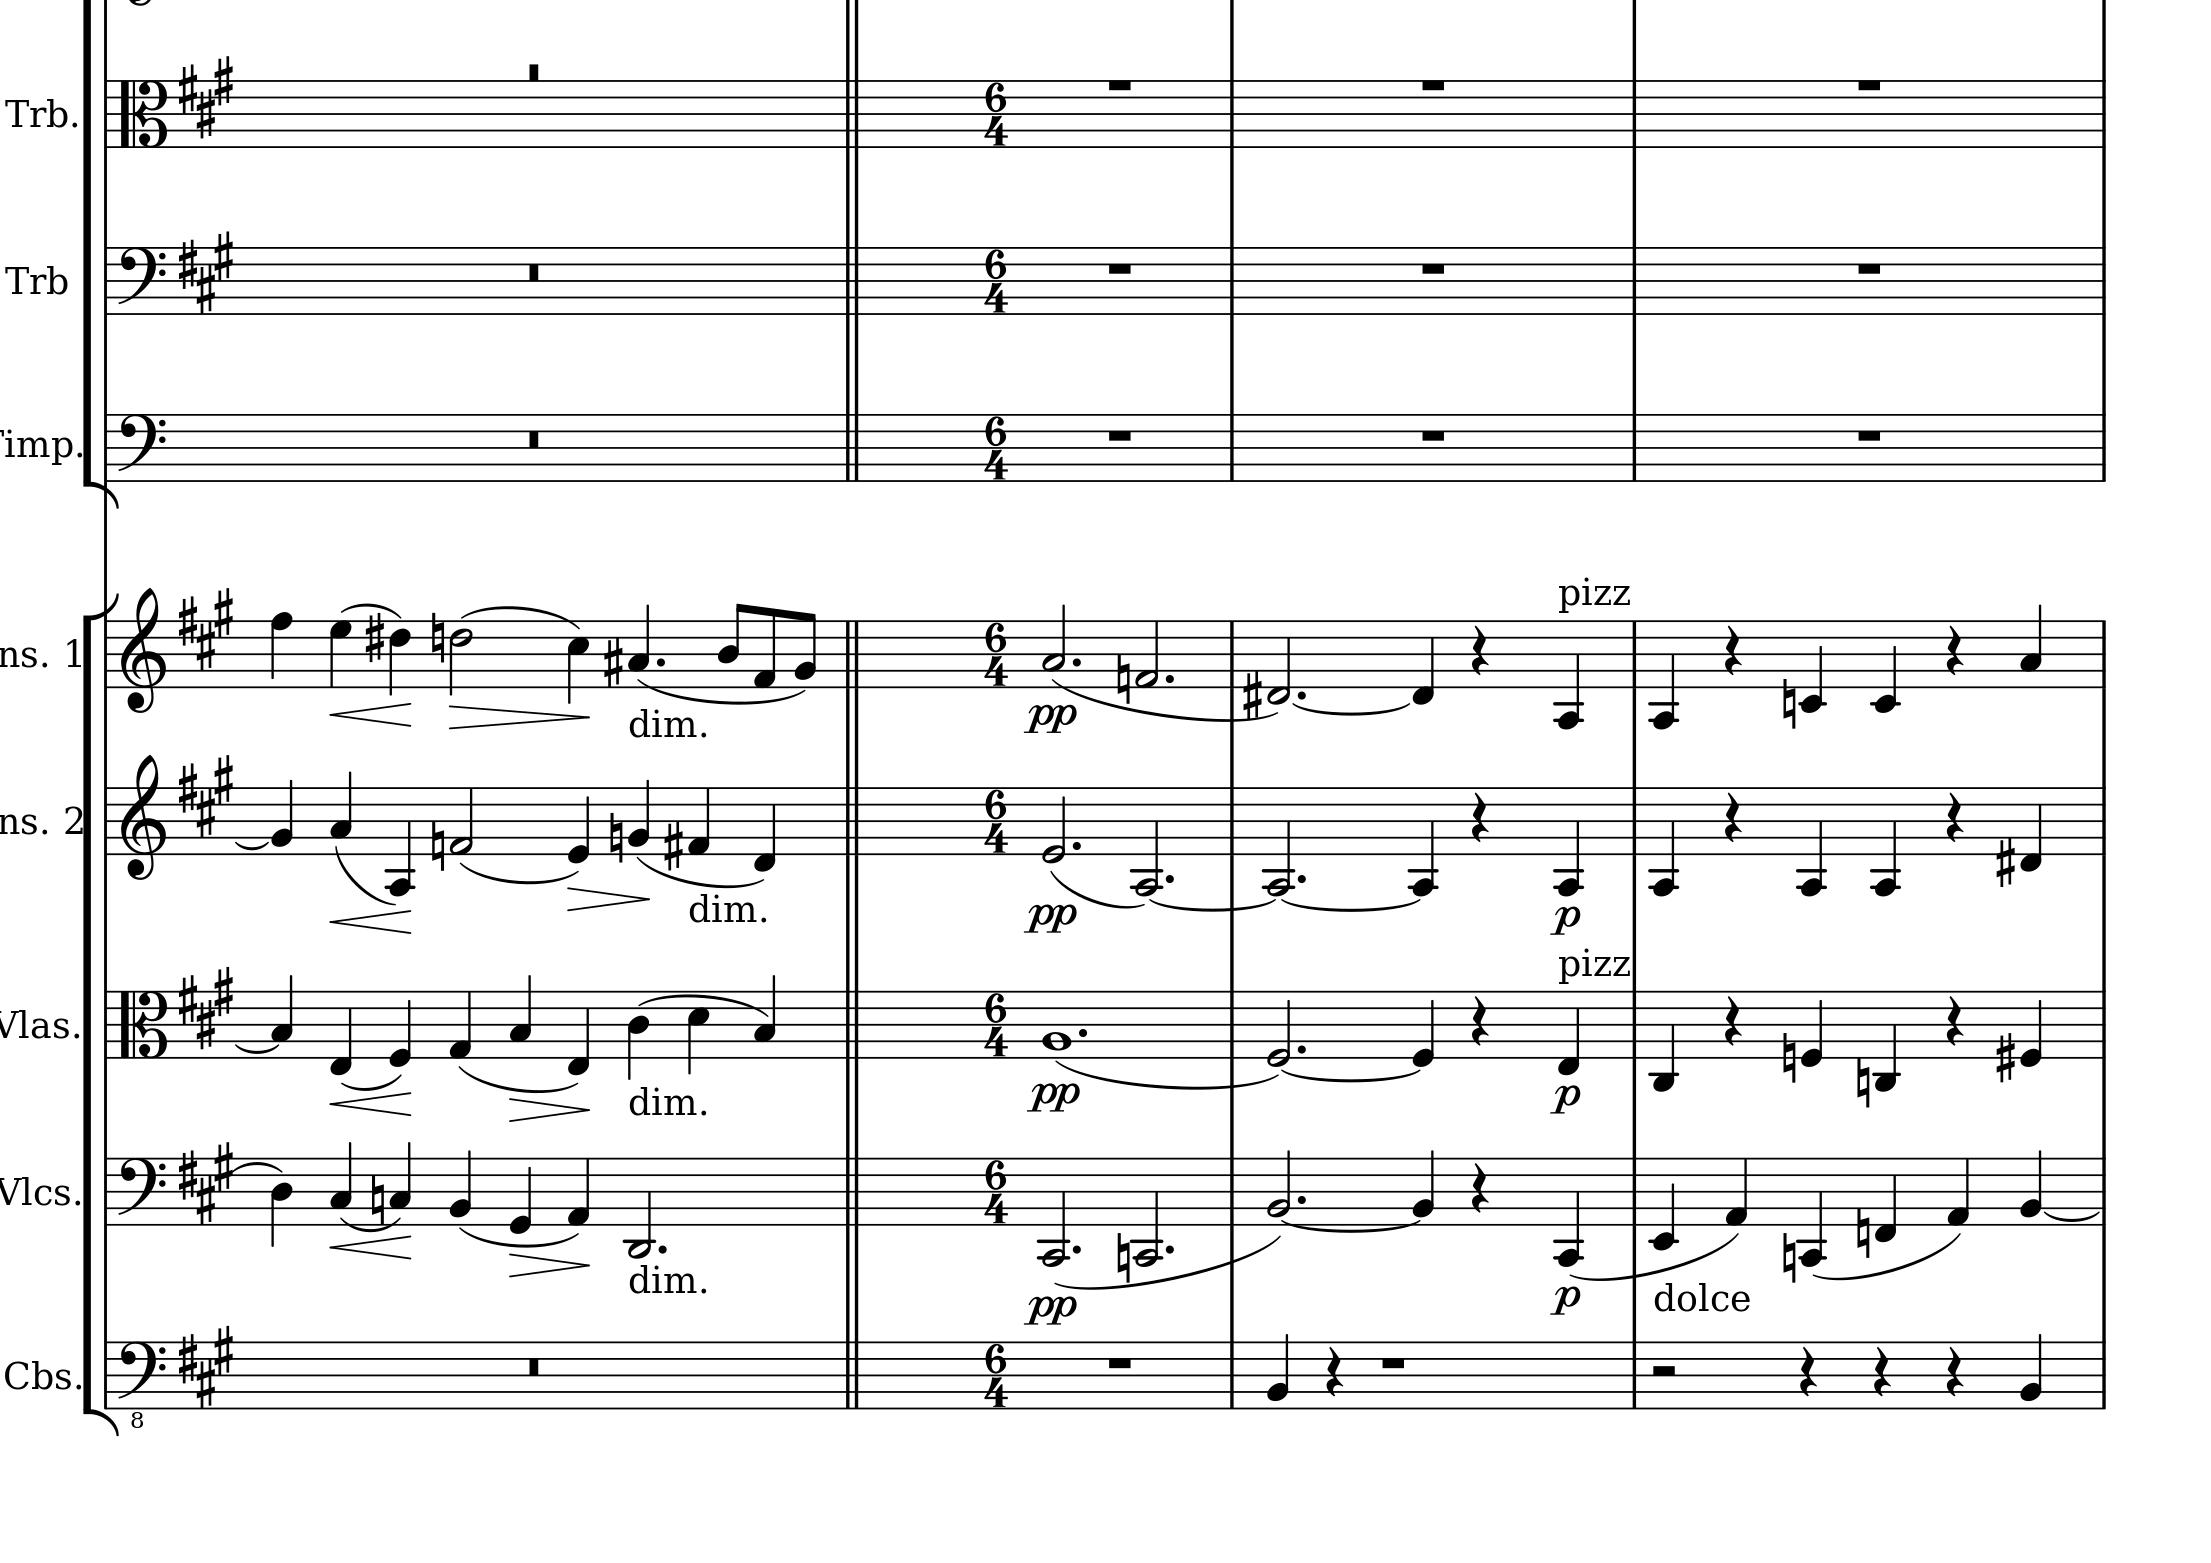1_2: (1040, 986, 1073, 1061)
2_-1: (1265, 616, 1292, 704)
2_-3: (624, 1154, 655, 1260)
2_-4: (1128, 783, 1162, 897), (1262, 783, 1294, 897), (1037, 1154, 1069, 1267), (1132, 1154, 1162, 1265)
2_0: (1264, 986, 1292, 1067), (1040, 783, 1067, 864)
2_1: (1133, 616, 1160, 688), (448, 783, 475, 854)
2_2: (1264, 1147, 1292, 1228)
2_3: (1040, 601, 1067, 690)
2_6: (448, 617, 474, 694)
4: (981, 277, 1012, 315), (981, 112, 1012, 147), (981, 819, 1012, 854), (981, 445, 1010, 480), (981, 651, 1010, 687), (981, 1189, 1010, 1225), (981, 1023, 1010, 1057), (981, 1374, 1010, 1407)
4_-1: (751, 783, 778, 873), (326, 986, 354, 1076), (1555, 986, 1582, 1076), (1409, 617, 1436, 705), (565, 988, 590, 1078), (1873, 1154, 1898, 1242), (2020, 783, 2044, 871)
4_-2: (1869, 616, 1898, 714), (1648, 1154, 1676, 1252), (1798, 616, 1825, 714)
4_-3: (1649, 986, 1676, 1094), (1873, 986, 1900, 1093)
4_-4: (1648, 783, 1680, 897), (1553, 616, 1583, 731), (1648, 617, 1678, 731), (1407, 783, 1438, 897), (1553, 783, 1583, 897), (1797, 783, 1827, 897), (1869, 783, 1900, 897), (1797, 1154, 1827, 1267), (1555, 1154, 1583, 1267), (386, 783, 413, 897)
4_0: (1409, 986, 1436, 1069), (506, 1154, 533, 1237), (386, 988, 413, 1067), (1798, 988, 1825, 1067), (565, 783, 590, 864), (2020, 988, 2044, 1067)
4_1: (447, 986, 474, 1059), (1722, 1155, 1749, 1226), (1944, 1155, 1971, 1226), (687, 783, 712, 856), (565, 1154, 590, 1226)
4_2: (1264, 1330, 1291, 1411), (447, 1147, 474, 1226), (1411, 1145, 1436, 1228), (626, 776, 651, 858), (2018, 1147, 2044, 1226), (2018, 1331, 2044, 1411), (271, 776, 294, 856)
4_3: (267, 973, 294, 1059), (753, 973, 778, 1061), (328, 1138, 354, 1226), (387, 1138, 413, 1226), (2018, 602, 2044, 688), (328, 768, 354, 854), (507, 973, 533, 1057), (626, 601, 650, 688)
4_4: (624, 988, 650, 1083), (267, 1155, 293, 1247)
4_5: (685, 988, 710, 1078), (565, 617, 589, 705)
4_6: (387, 617, 411, 695)
4_7: (326, 617, 354, 688)
4_8: (267, 609, 293, 690)
6: (981, 78, 1008, 112), (981, 245, 1008, 279), (981, 413, 1008, 447), (983, 617, 1008, 653), (983, 785, 1008, 820), (983, 990, 1008, 1023), (983, 1155, 1008, 1189), (983, 1340, 1007, 1374)
8_1: (751, 606, 778, 690)
8_2: (792, 609, 817, 688)
8_4: (716, 601, 748, 688)
A_S: (174, 228, 237, 313), (174, 585, 235, 672), (174, 964, 235, 1050), (176, 54, 237, 139), (176, 1323, 237, 1407), (176, 753, 235, 837), (174, 1142, 233, 1225)
Cclef: (117, 986, 169, 1061), (117, 78, 169, 151)
Crescendo_hairpin: (328, 699, 413, 727), (330, 908, 413, 935), (335, 1088, 414, 1115), (328, 1235, 411, 1259)
Diminuendo_hairpin: (448, 704, 590, 731), (507, 1096, 590, 1123), (567, 886, 651, 912), (507, 1252, 589, 1277)
Double_barline: (839, 78, 866, 147), (839, 245, 866, 315), (839, 1155, 866, 1225), (839, 413, 866, 480), (839, 787, 866, 854), (839, 1340, 866, 1407), (839, 990, 864, 1057), (841, 619, 864, 687)
Fclef: (115, 1155, 167, 1230), (115, 411, 167, 484), (117, 244, 167, 316)
Gclef: (118, 585, 167, 716), (118, 753, 167, 881)
Lower_Fclef: (117, 1336, 167, 1429)
Natural: (1113, 650, 1132, 705), (1852, 1054, 1871, 1110), (1852, 1204, 1871, 1259), (1113, 1230, 1132, 1282), (1780, 673, 1797, 731), (1780, 1028, 1797, 1084), (607, 809, 624, 863), (369, 1172, 386, 1226), (1780, 1230, 1797, 1284), (430, 819, 447, 869), (428, 611, 443, 665)
Ob: (3, 1352, 51, 1399)
Rests1: (1418, 74, 1450, 95), (1852, 74, 1885, 95), (1418, 257, 1450, 277), (1103, 74, 1135, 93), (1852, 257, 1885, 276), (1103, 425, 1135, 443), (1418, 425, 1450, 443), (1852, 425, 1885, 443), (1375, 1353, 1409, 1370), (1103, 259, 1135, 276), (1105, 1353, 1135, 1370)
Rests2: (1648, 1362, 1680, 1380)
Rests4: (1467, 993, 1490, 1049), (1467, 1160, 1490, 1216), (1321, 1345, 1345, 1399), (1468, 622, 1490, 678), (1720, 622, 1742, 678), (1944, 622, 1966, 678), (1720, 790, 1742, 846), (1720, 993, 1742, 1049), (1797, 1345, 1819, 1397), (1468, 790, 1489, 846), (1944, 790, 1964, 844), (1944, 995, 1964, 1049), (1944, 1345, 1964, 1399), (1871, 1345, 1891, 1397)
Sharp: (601, 633, 623, 688), (661, 819, 683, 869), (1994, 1028, 2015, 1083), (1240, 666, 1260, 719), (1994, 836, 2015, 888), (364, 611, 382, 661)
Single_barline: (1221, 990, 1242, 1071), (2093, 990, 2113, 1057), (96, 990, 117, 1057), (1221, 80, 1242, 145), (1221, 247, 1242, 313), (2093, 787, 2111, 854), (1626, 990, 1644, 1057), (1626, 80, 1644, 145), (1626, 247, 1644, 313), (1626, 787, 1644, 853), (2094, 245, 2111, 315), (2094, 80, 2111, 147), (2094, 619, 2111, 687), (2094, 1157, 2111, 1225), (98, 80, 115, 145), (98, 414, 115, 480), (1626, 414, 1643, 480), (2094, 414, 2111, 480), (100, 621, 117, 687), (1627, 621, 1644, 687), (100, 787, 117, 853), (100, 1159, 117, 1225), (1626, 1159, 1643, 1225), (1225, 1341, 1242, 1407), (2094, 1341, 2111, 1407), (100, 1341, 117, 1407), (1626, 1341, 1643, 1407), (100, 247, 115, 313), (1225, 414, 1240, 480), (1225, 621, 1240, 687), (1225, 787, 1240, 853), (1225, 1159, 1240, 1225)
Slur: (1054, 678, 1276, 722), (1566, 1235, 1742, 1282), (1817, 1231, 1966, 1282), (1040, 868, 1150, 908), (634, 856, 763, 888), (636, 678, 809, 702), (333, 844, 399, 903), (458, 1062, 577, 1091), (638, 993, 771, 1018), (458, 604, 582, 629), (458, 859, 580, 885), (455, 1225, 584, 1248), (1282, 897, 1421, 912), (1282, 1067, 1421, 1083), (1282, 1220, 1421, 1233), (1292, 700, 1411, 716), (1149, 897, 1277, 910), (338, 601, 404, 617), (342, 1074, 403, 1091), (340, 1215, 399, 1231), (232, 1159, 284, 1176), (2042, 1209, 2103, 1221), (232, 1042, 283, 1054), (232, 839, 271, 849)
TimeSig: (981, 617, 1012, 687), (981, 785, 1012, 854), (981, 990, 1012, 1057), (981, 78, 1010, 147), (981, 245, 1010, 315), (981, 1155, 1010, 1225), (981, 413, 1010, 480), (981, 1340, 1010, 1407)
Trb: (2, 90, 69, 132), (2, 257, 68, 299)
Vla: (2, 1003, 51, 1047)
Vlc: (2, 1169, 52, 1215)
dot: (653, 653, 668, 668), (1074, 1023, 1089, 1039), (1296, 1040, 1309, 1057), (1296, 1191, 1309, 1208), (1296, 871, 1309, 886), (656, 1242, 670, 1257), (1164, 871, 1177, 885), (1162, 1242, 1176, 1255), (1071, 837, 1083, 853), (1071, 1242, 1083, 1257), (1071, 655, 1083, 668), (1162, 672, 1176, 683), (1296, 687, 1308, 700)
p: (1550, 1079, 1582, 1115), (1550, 1281, 1582, 1316), (1550, 902, 1582, 935)
pp: (1022, 900, 1078, 934), (1023, 1292, 1079, 1326), (1023, 700, 1078, 734), (1027, 1079, 1079, 1113)
